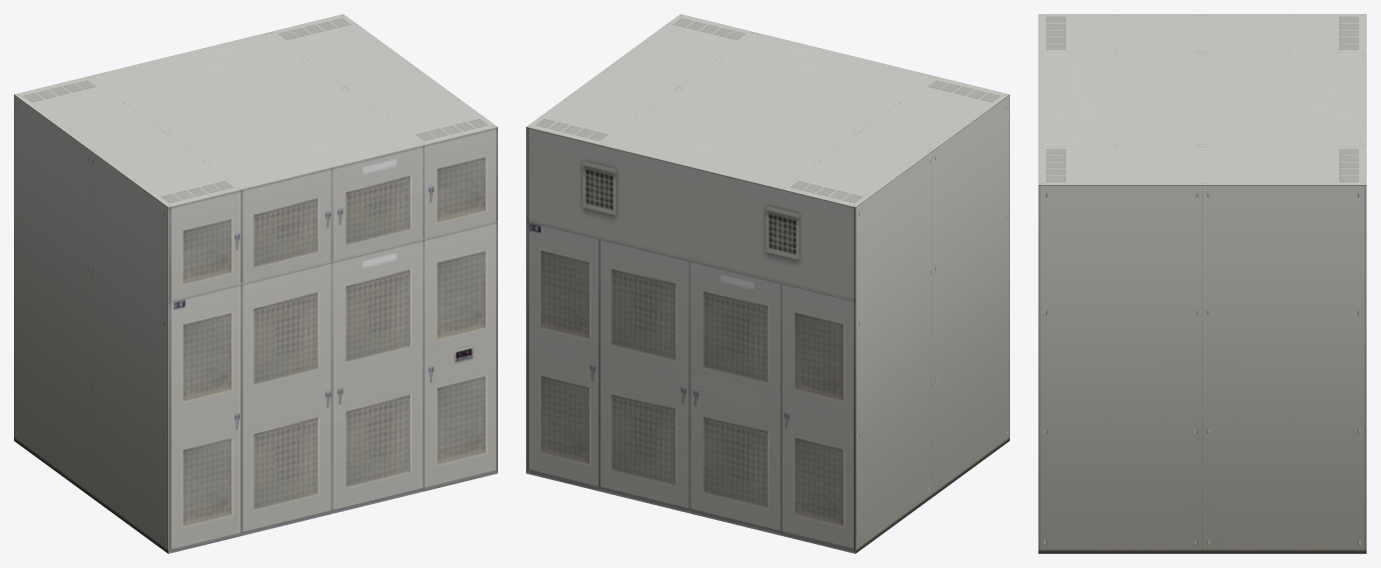
3 renders of one model, left to right at view 1: azimuth 30°, elevation 25°; view 2: azimuth 150°, elevation 25°; view 3: azimuth 270°, elevation 25°, orthographic. The views are drawn at different scales.
Parts seen in each view (by area): view 1: MT-M1; view 2: MT-M1; view 3: MT-M1.
Boxes of the visible parts, x1,y1,x2,y2 form: MT-M1: (14,14,497,553); MT-M1: (526,14,1009,553); MT-M1: (1038,14,1366,553).
Size of the model in its own units: 3.7 by 3.72 by 3.
Materials: 1 (1 with a texture image).
